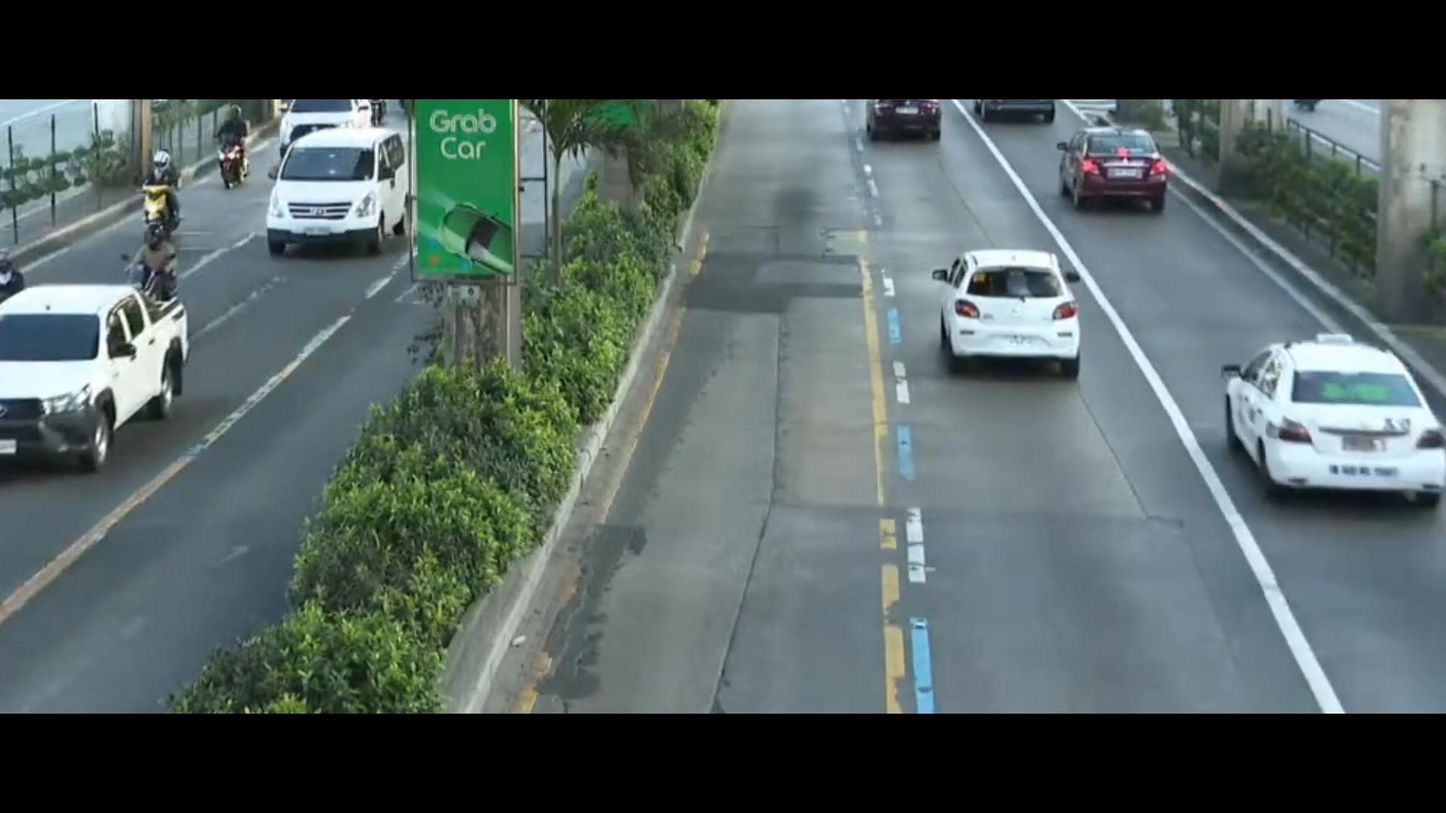Motorcycle: (196, 111, 262, 212), (125, 229, 206, 304), (125, 144, 191, 234)
Pickup: (0, 274, 211, 480)
SUV: (273, 98, 381, 158)
Sedan: (1180, 304, 1446, 527), (901, 236, 1108, 412), (1042, 116, 1175, 246)
Van: (258, 121, 412, 258)
